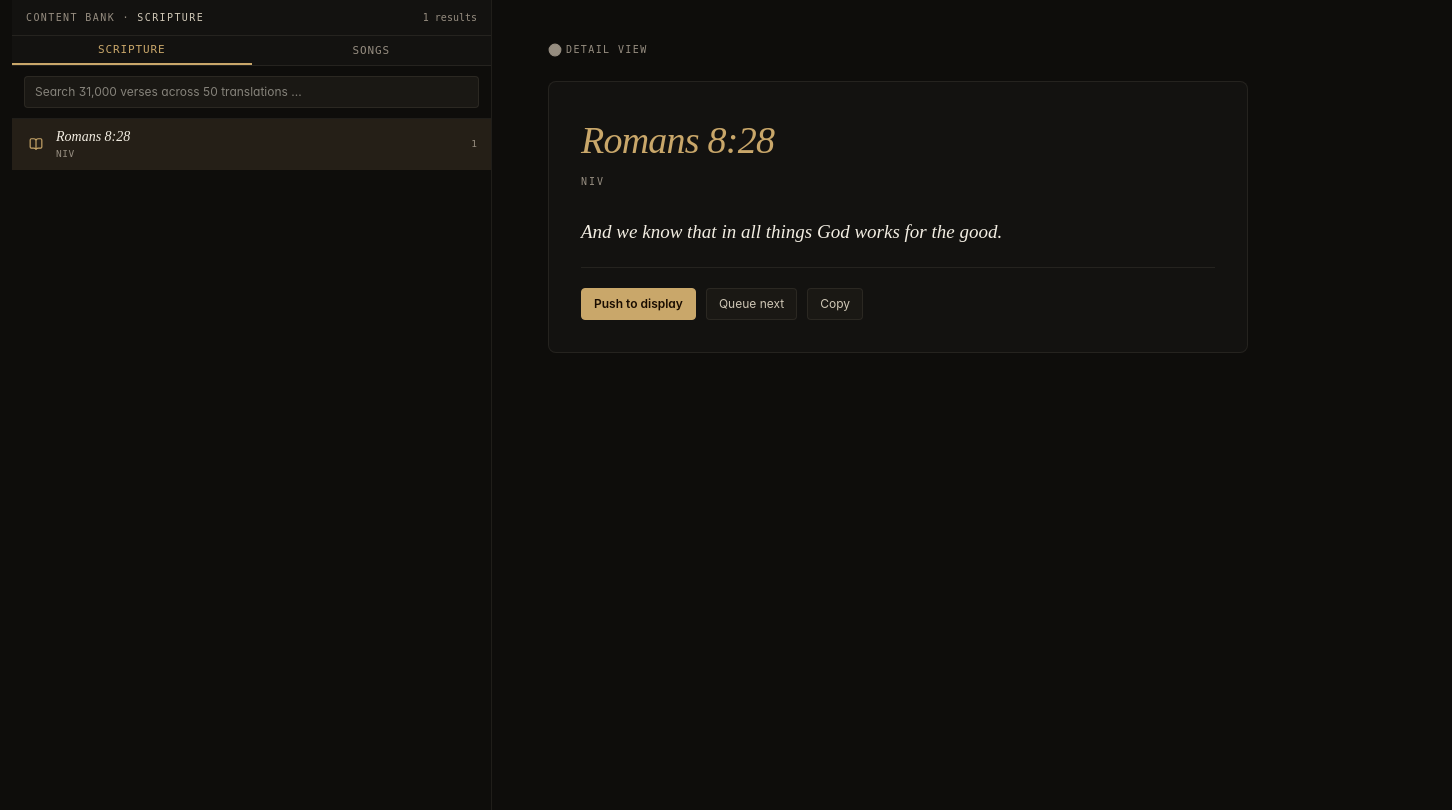
Test case: LibraryScreen › switches to Songs tab and shows song search input
Click the button "Songs" at (371, 51), box [252,36,491,65]
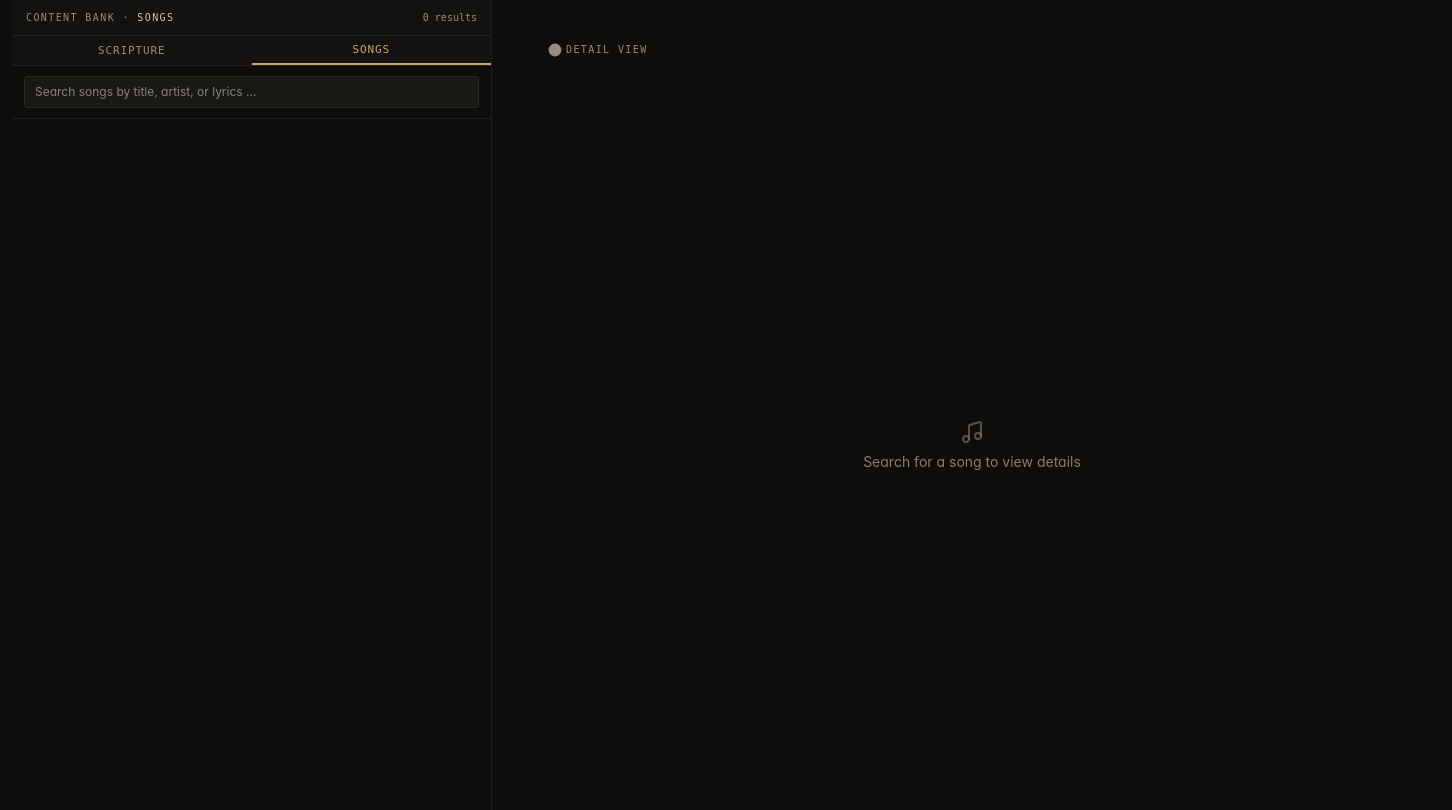
expect the field with placeholder "Search songs by title, artist, or lyrics ..." is shown: met, box [24,76,479,108]
